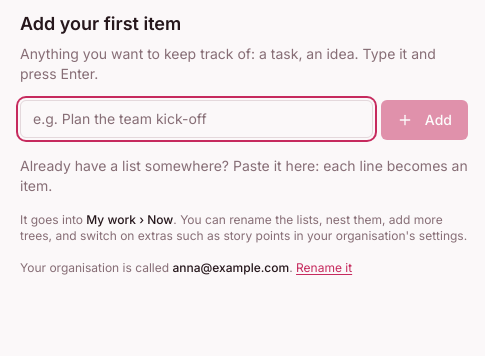
Test: naming the organisation from the first-item box › says so when the rename is refused, and keeps the old name
Click the button "Rename it" at (324, 268), box top-left (296, 260), bottom-right (352, 276)
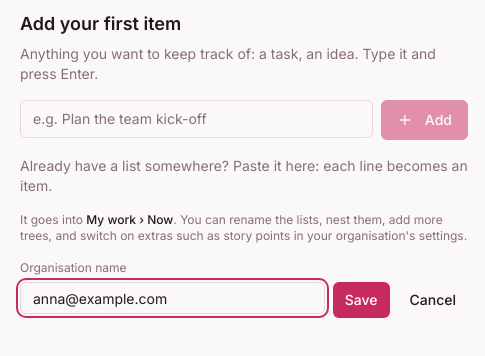
Replace the text in the field labelled "Organisation name" with "Mine" at (172, 298), box top-left (20, 282), bottom-right (325, 314)
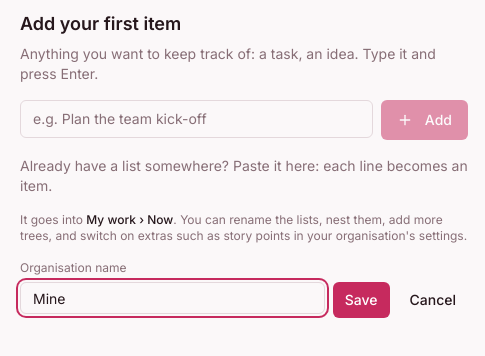
Submit the form "Organisation name", box top-left (20, 260), bottom-right (468, 318)
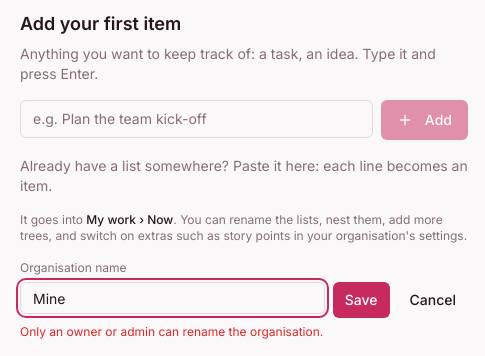
expect the message shows "owner or admin": met, box top-left (20, 324), bottom-right (323, 339)
